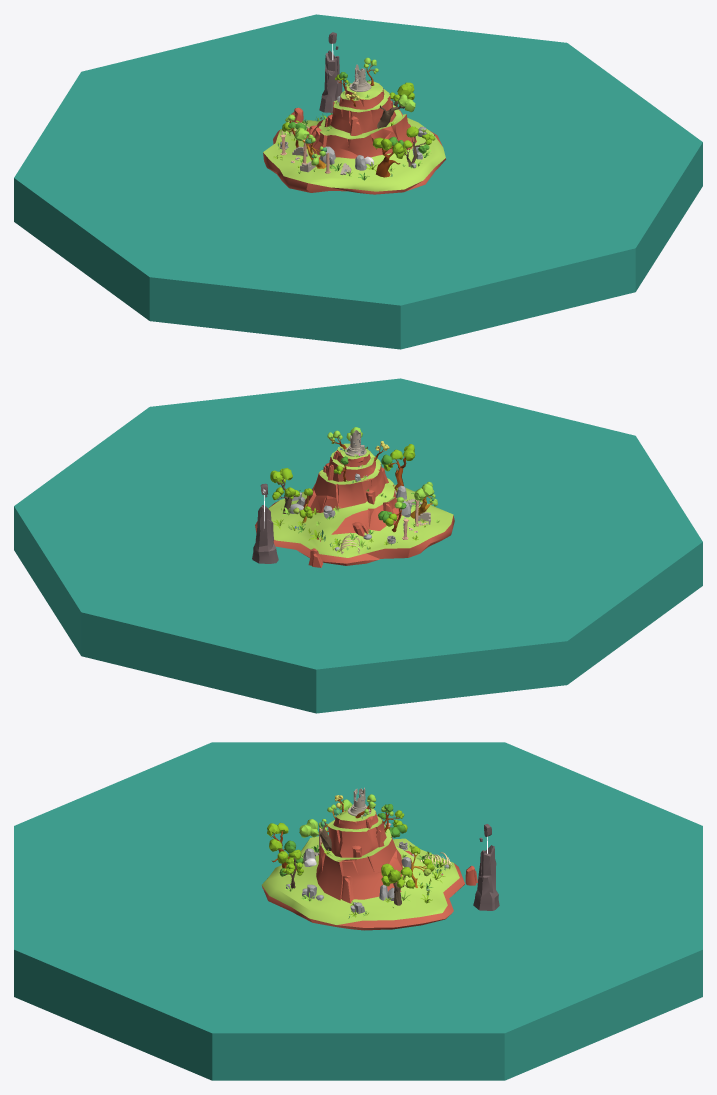
The model's file is Island3D.glb.
3 renders of one model, top to bottom at view 1: azimuth 30°, elevation 25°; view 2: azimuth 150°, elevation 25°; view 3: azimuth 270°, elevation 25°, orthographic. The views are drawn at different scales.
Parts seen in each view (by area): view 1: yet_111, Plane014_108, Cylinder009_94; view 2: yet_111, Plane014_108, Cylinder009_94; view 3: yet_111, Plane014_108, Cylinder009_94.
Part boxes in pixels (<box>): yet_111: <box>14,14,702,349</box>; Plane014_108: <box>263,80,445,194</box>; Cylinder009_94: <box>319,50,342,112</box>; yet_111: <box>14,378,702,713</box>; Plane014_108: <box>255,443,454,565</box>; Cylinder009_94: <box>252,505,278,563</box>; yet_111: <box>14,742,702,1080</box>; Plane014_108: <box>261,808,464,930</box>; Cylinder009_94: <box>473,845,499,910</box>.
Size of the model in its own units: 479 by 114 by 479.
